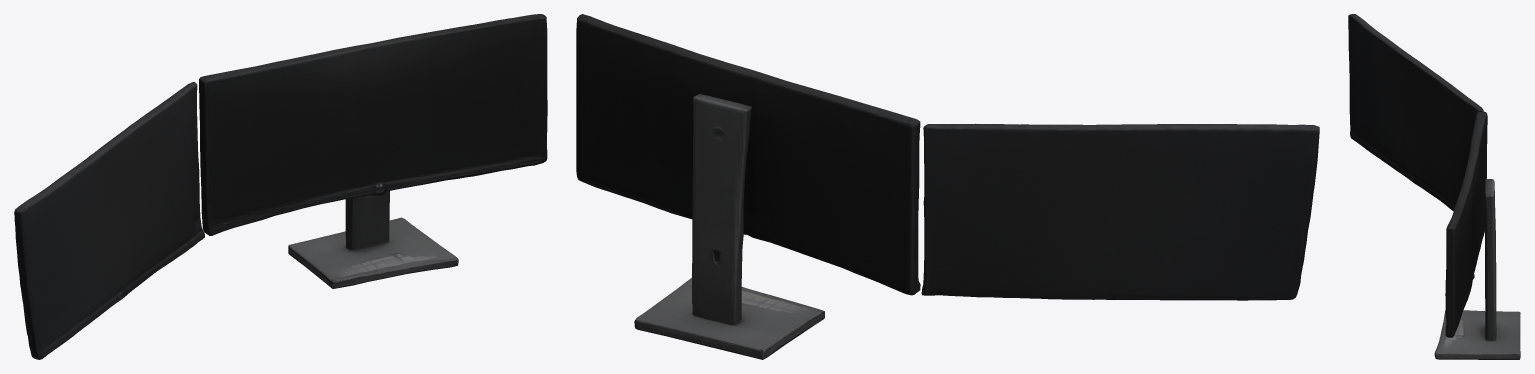
The model's file is Monitors.fbx.
3 renders of one model, left to right at view 1: azimuth 30°, elevation 25°; view 2: azimuth 150°, elevation 25°; view 3: azimuth 270°, elevation 25°, orthographic. The views are drawn at different scales.
Parts seen in each view (by area): view 1: world; view 2: world; view 3: world.
Boxes of the visible parts, x1=… form: world: x1=14, y1=14, x2=547, y2=359; world: x1=576, y1=14, x2=1319, y2=359; world: x1=1348, y1=14, x2=1520, y2=359.
Bounding box in the file's own units: 99.8 × 35.7 × 33.3.
